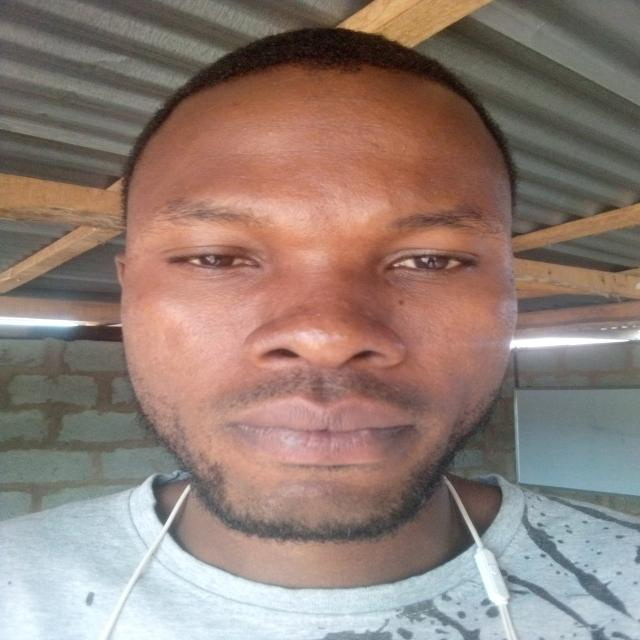Blackheads: (289, 298, 357, 342)
Englarged-Pores: (396, 297, 463, 347), (185, 294, 242, 346), (175, 344, 216, 374), (305, 198, 342, 222)
Wrinkles: (214, 169, 406, 193), (224, 146, 408, 161), (252, 116, 384, 132)
